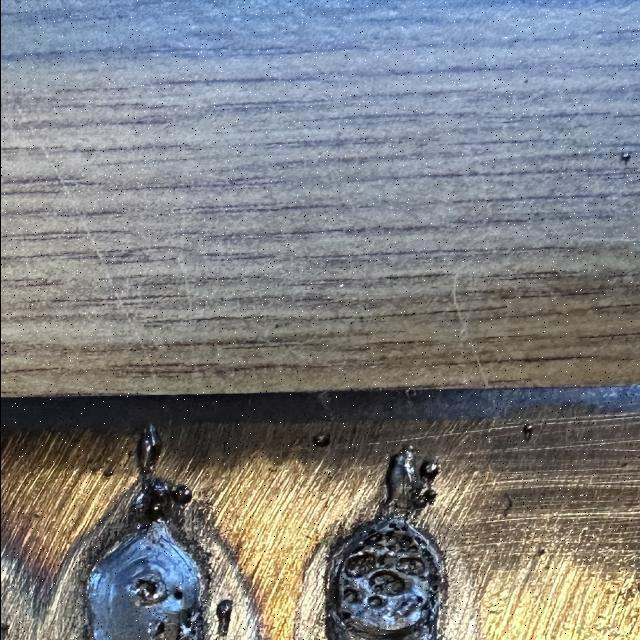Porosity: (327, 518, 442, 640), (135, 579, 160, 604), (152, 621, 165, 640), (342, 589, 357, 602), (367, 595, 382, 608), (174, 589, 182, 600)
Spatters: (382, 445, 420, 516), (145, 479, 172, 521), (137, 425, 160, 474), (216, 600, 232, 636), (414, 489, 437, 510), (170, 485, 192, 505), (418, 461, 438, 482), (312, 433, 330, 448), (312, 434, 330, 448), (522, 424, 533, 441), (621, 152, 630, 161)
